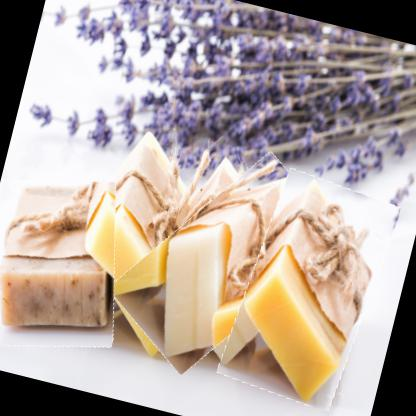soap: (118, 134, 334, 394), (220, 167, 398, 414), (0, 161, 142, 365)
